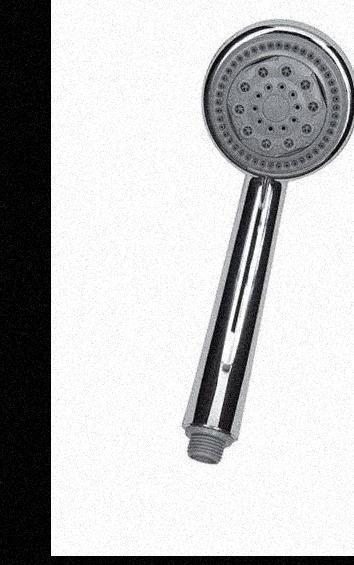Ducha: (168, 0, 354, 476)
